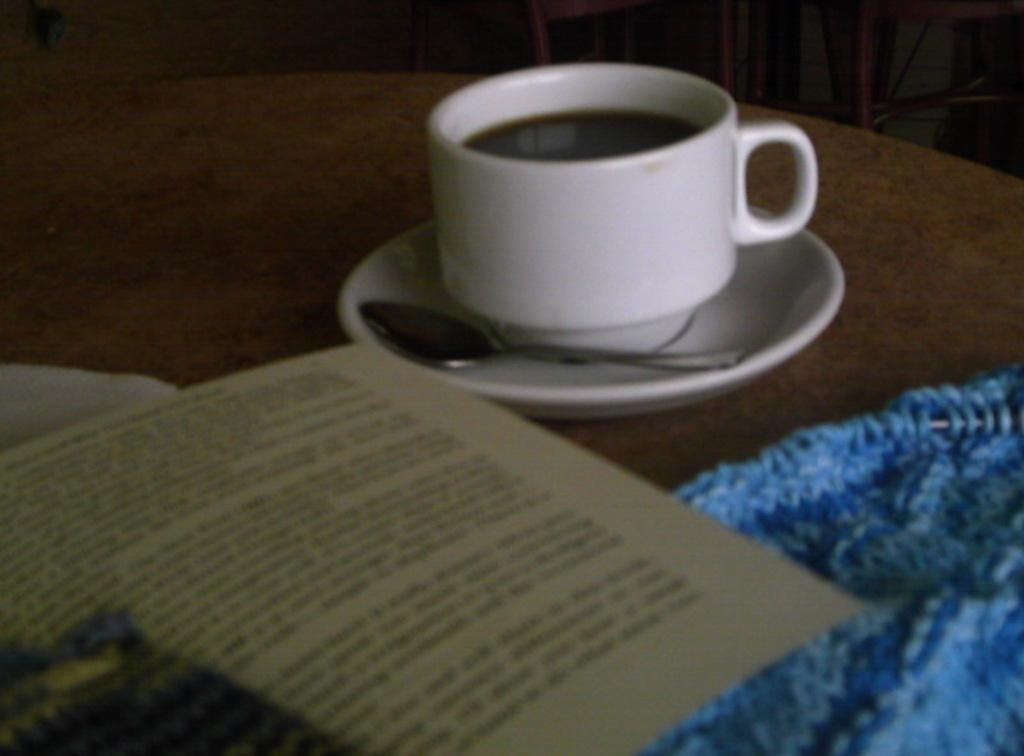cup-handle: (425, 63, 822, 355)
